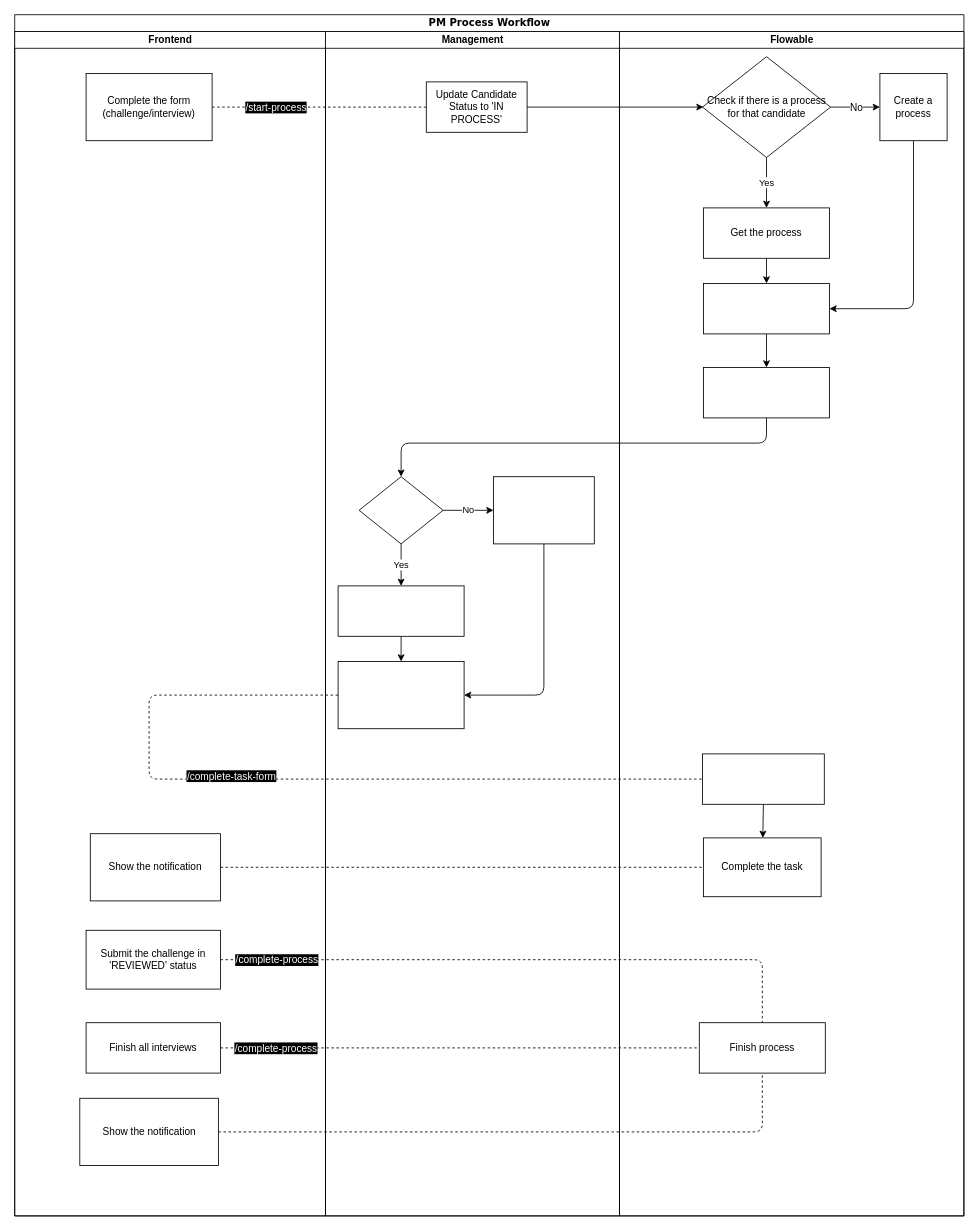
Image size: 979x1231. Some labels were removed from this diagram. Here are the shapes that lost their labels. From the top down, the centre of each, then its label:
the point at 766,308: Create a subprocess
the point at 766,392: Create a task
the point at 400,510: It's an 'ADD'
the point at 543,510: Update the form with the new task id
the point at 400,610: Add the form with the new task id
the point at 400,695: Response the form with the task id
the point at 763,778: Store the form as variables
